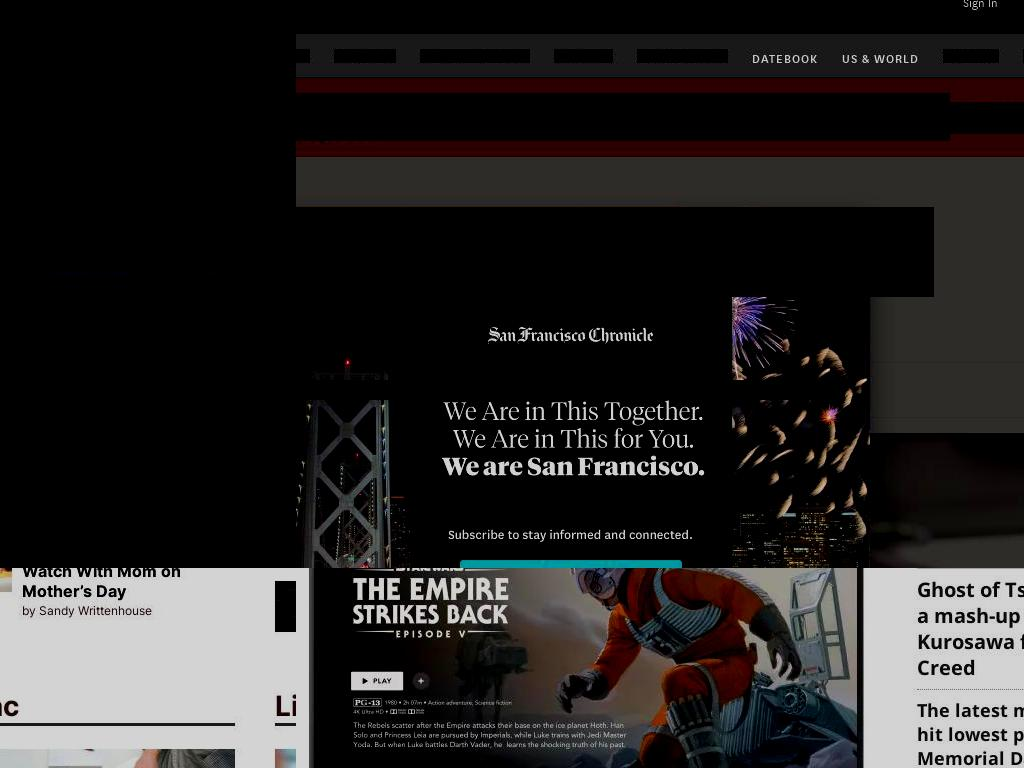button: (296, 211, 870, 568), (296, 568, 902, 768), (348, 433, 1024, 568), (296, 93, 950, 141), (917, 569, 1024, 689), (296, 380, 845, 400), (917, 690, 1024, 768), (949, 102, 1024, 134), (850, 0, 954, 18), (420, 49, 530, 63), (637, 49, 728, 63), (836, 211, 870, 245), (275, 581, 296, 633), (842, 49, 919, 63), (752, 49, 818, 63), (334, 49, 396, 63), (554, 49, 613, 63), (943, 49, 999, 63), (963, 0, 998, 10), (296, 49, 310, 63)
heading: (917, 577, 1024, 681), (917, 698, 1024, 768), (21, 568, 181, 602), (275, 688, 296, 723), (0, 688, 19, 723)
iframe: (296, 207, 934, 297)
image: (296, 211, 870, 568), (296, 568, 902, 768), (348, 433, 1024, 568), (0, 274, 296, 568), (0, 16, 296, 266), (296, 28, 1024, 33), (446, 0, 694, 14), (275, 581, 296, 633), (998, 0, 1024, 23), (840, 221, 860, 241)
text: (21, 601, 226, 621), (43, 556, 296, 568)
